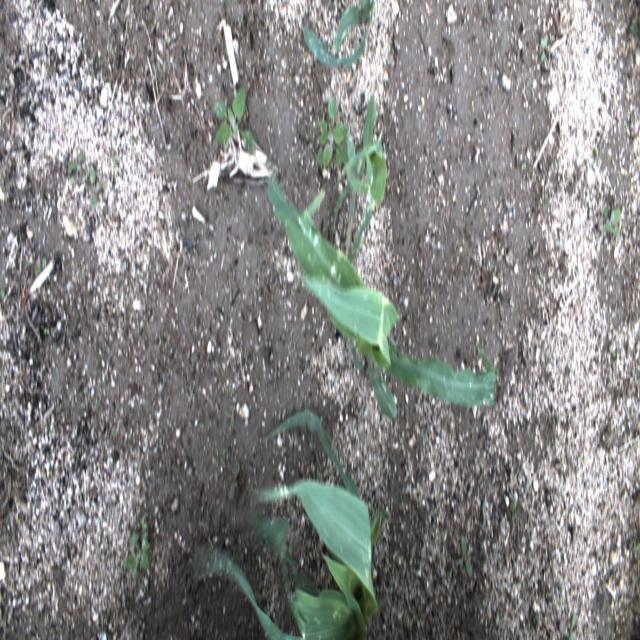crop: (264, 93, 498, 420), (197, 412, 391, 639), (299, 2, 375, 69)
weed: (214, 84, 254, 154), (123, 514, 151, 582), (319, 96, 346, 164), (86, 163, 102, 216), (602, 204, 620, 240), (68, 150, 85, 184), (460, 535, 471, 580), (228, 460, 240, 499), (30, 255, 47, 277), (567, 612, 576, 640), (540, 35, 548, 63), (229, 401, 236, 430), (594, 145, 599, 164), (44, 325, 50, 337), (520, 160, 526, 172)
